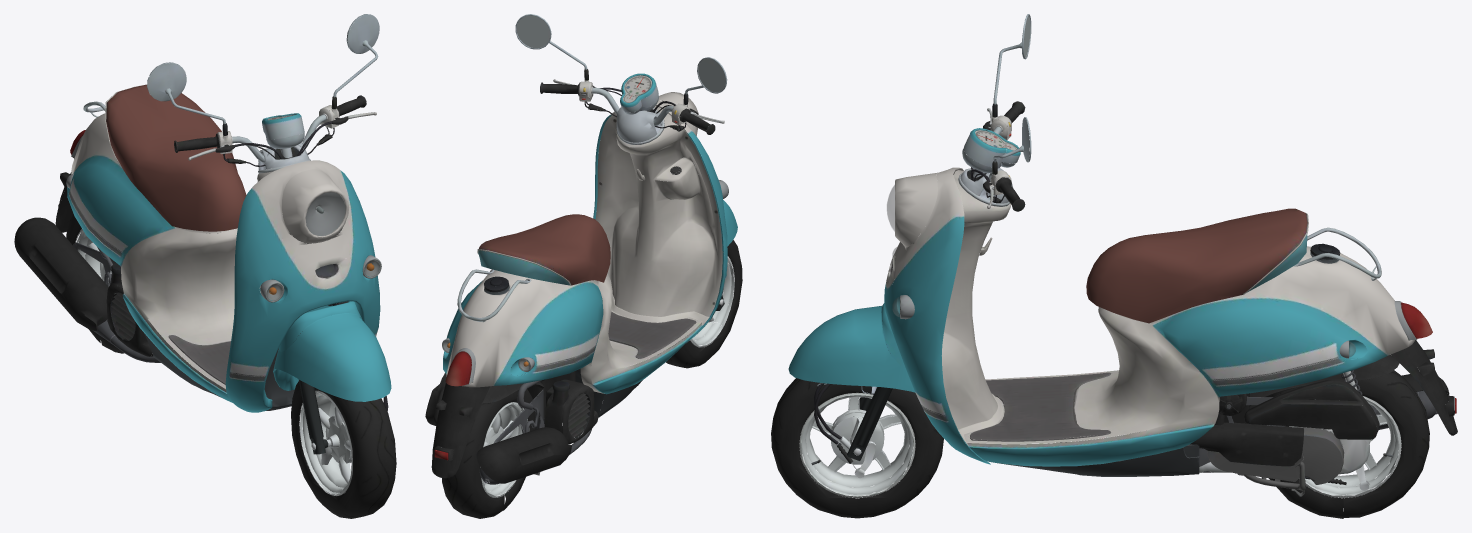
3 renders of one model, left to right at view 1: azimuth 30°, elevation 25°; view 2: azimuth 150°, elevation 25°; view 3: azimuth 270°, elevation 25°, orthographic. The views are drawn at different scales.
Parts seen in each view (by area): view 1: body, wheel_f, wheel_r; view 2: body, wheel_r, wheel_f; view 3: body, wheel_f, wheel_r.
Part boxes in pixels (left/top/right/bottom): body: left=14, top=14, right=391, bottom=454; wheel_f: left=291, top=381, right=396, bottom=518; wheel_r: left=66, top=214, right=126, bottom=353; body: left=425, top=14, right=737, bottom=484; wheel_r: left=442, top=389, right=540, bottom=518; wheel_f: left=658, top=240, right=742, bottom=368; body: left=788, top=14, right=1457, bottom=490; wheel_f: left=771, top=378, right=943, bottom=518; wheel_r: left=1262, top=370, right=1429, bottom=518.
Size of the model in its own units: 0.7576 by 1.29 by 1.8.
5 materials, 5 textured.
